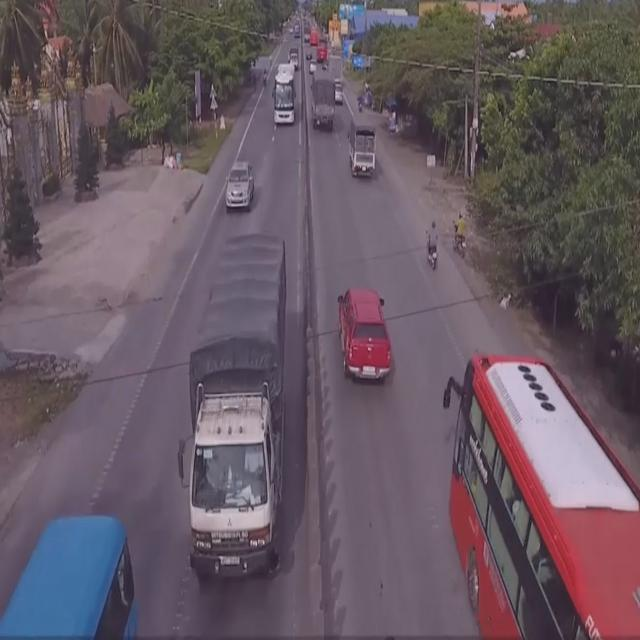bus: (444, 350, 640, 640), (0, 515, 137, 640), (272, 64, 297, 128)
car: (336, 285, 393, 386), (226, 157, 253, 210)
motorbike: (424, 214, 440, 271), (452, 213, 468, 261)
truck: (180, 236, 287, 580), (346, 119, 376, 179), (308, 69, 337, 131)
